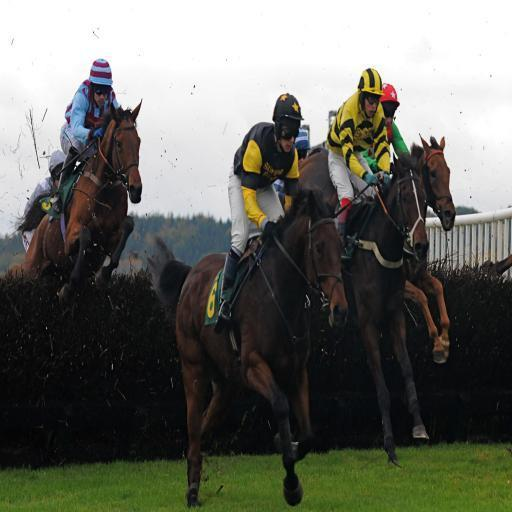horse: (144, 184, 350, 508), (280, 145, 430, 467), (4, 98, 144, 306), (404, 131, 458, 367)
